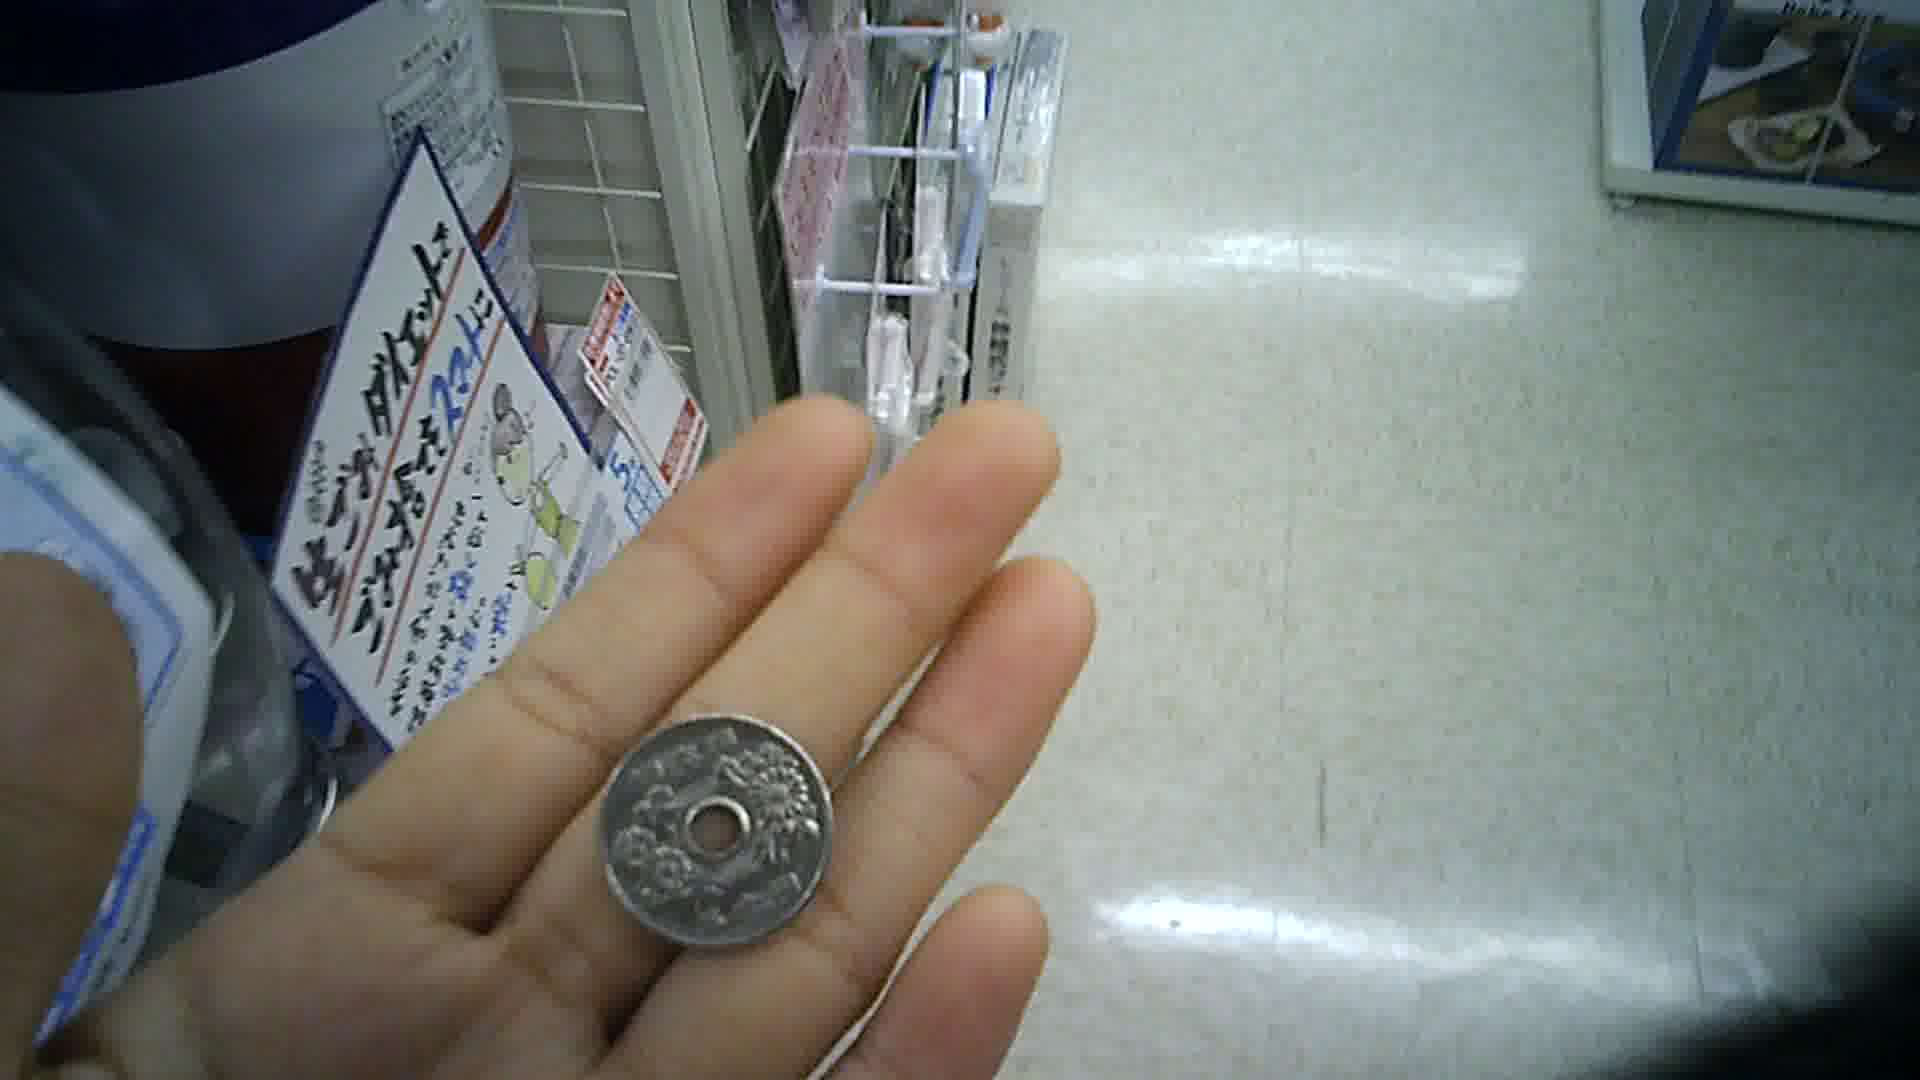50 Yen: (595, 716, 847, 952)
